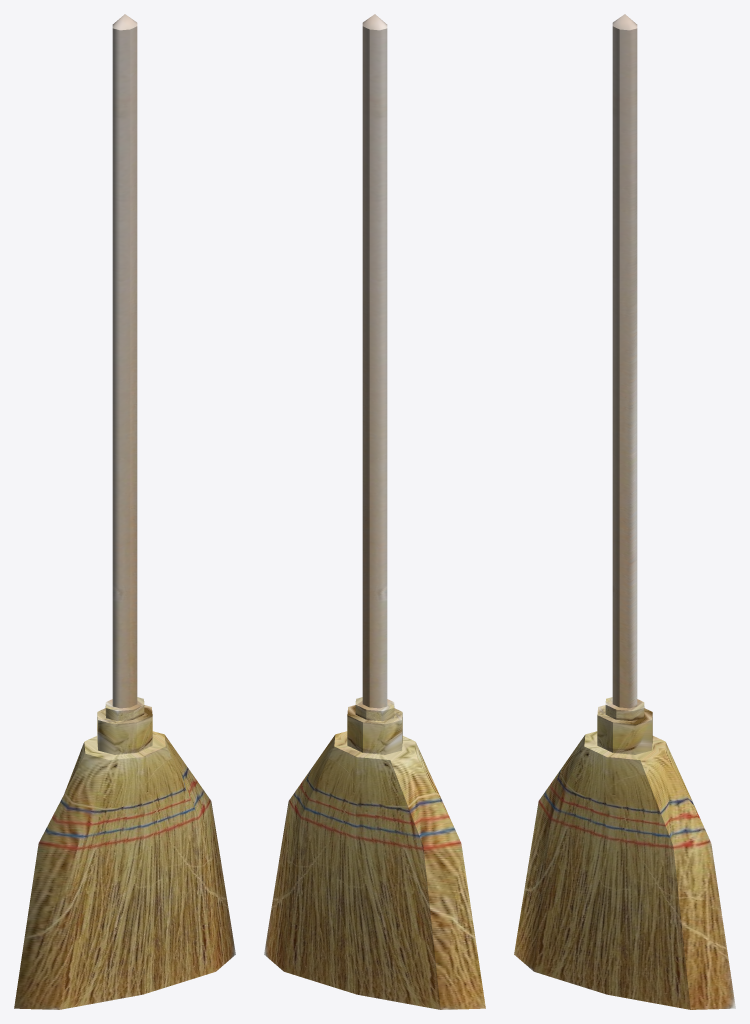
File: SM_Escoba.fbx
The picture shows the model from 3 angles, left to right: view 1: azimuth 30°, elevation 25°; view 2: azimuth 150°, elevation 25°; view 3: azimuth 330°, elevation 25°; orthographic projection.
Visible parts, largest first — view 1: Cylinder001; view 2: Cylinder001; view 3: Cylinder001.
Part boxes in pixels (x1=…): Cylinder001: x1=14, y1=14, x2=235, y2=1009; Cylinder001: x1=264, y1=14, x2=485, y2=1009; Cylinder001: x1=514, y1=14, x2=735, y2=1009.
Size of the model in its own units: 241 by 1003 by 67.24.
Materials: 1 (1 with a texture image).
